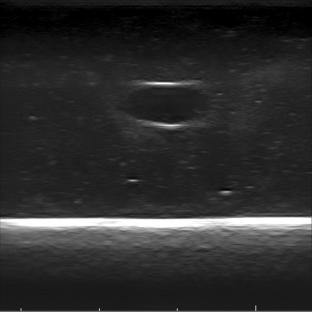vessel: (127, 82, 206, 130)
